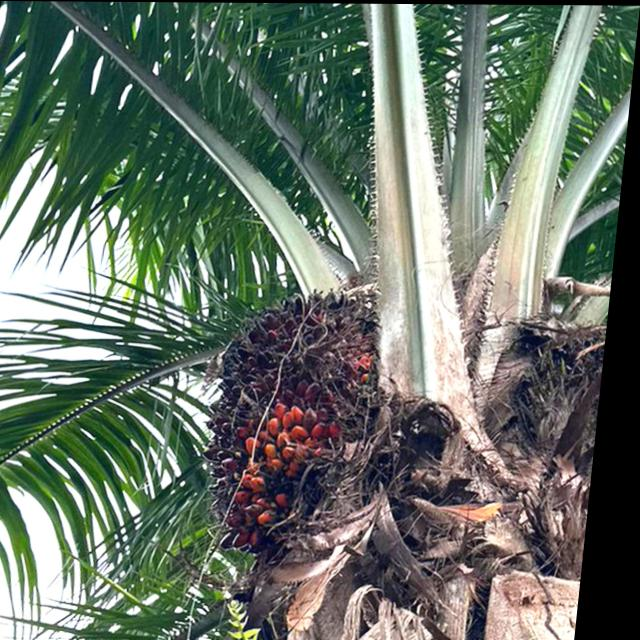ripe: (231, 264, 416, 525)
